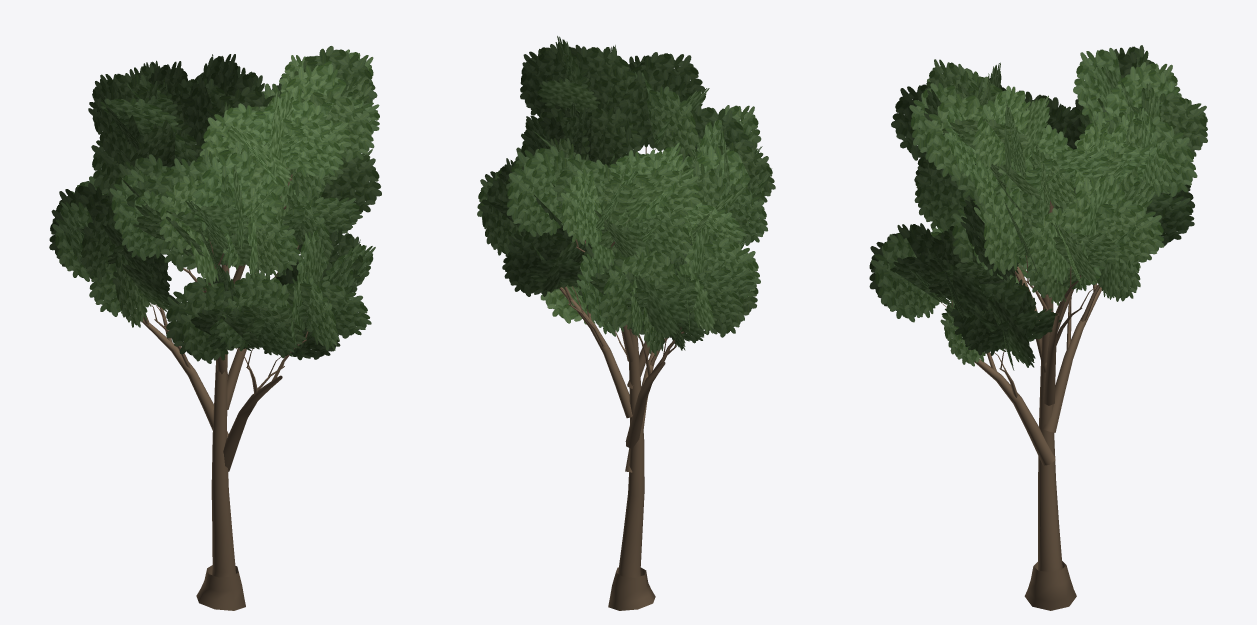
3 renders of one model, left to right at view 1: azimuth 30°, elevation 25°; view 2: azimuth 150°, elevation 25°; view 3: azimuth 270°, elevation 25°, orthographic. The views are drawn at different scales.
Visible parts, largest first — view 1: Twig-attached foliage sprays, Connected tapered trunk and branches; view 2: Twig-attached foliage sprays, Connected tapered trunk and branches; view 3: Twig-attached foliage sprays, Connected tapered trunk and branches.
Boxes of the visible parts, x1,y1,x2,y2 form: Twig-attached foliage sprays: (49, 46, 381, 363); Connected tapered trunk and branches: (140, 168, 308, 610); Twig-attached foliage sprays: (477, 36, 775, 356); Connected tapered trunk and branches: (559, 147, 684, 610); Twig-attached foliage sprays: (869, 45, 1207, 370); Connected tapered trunk and branches: (941, 200, 1101, 610).
Size of the model in its own units: 6.23 by 10.06 by 6.39.
